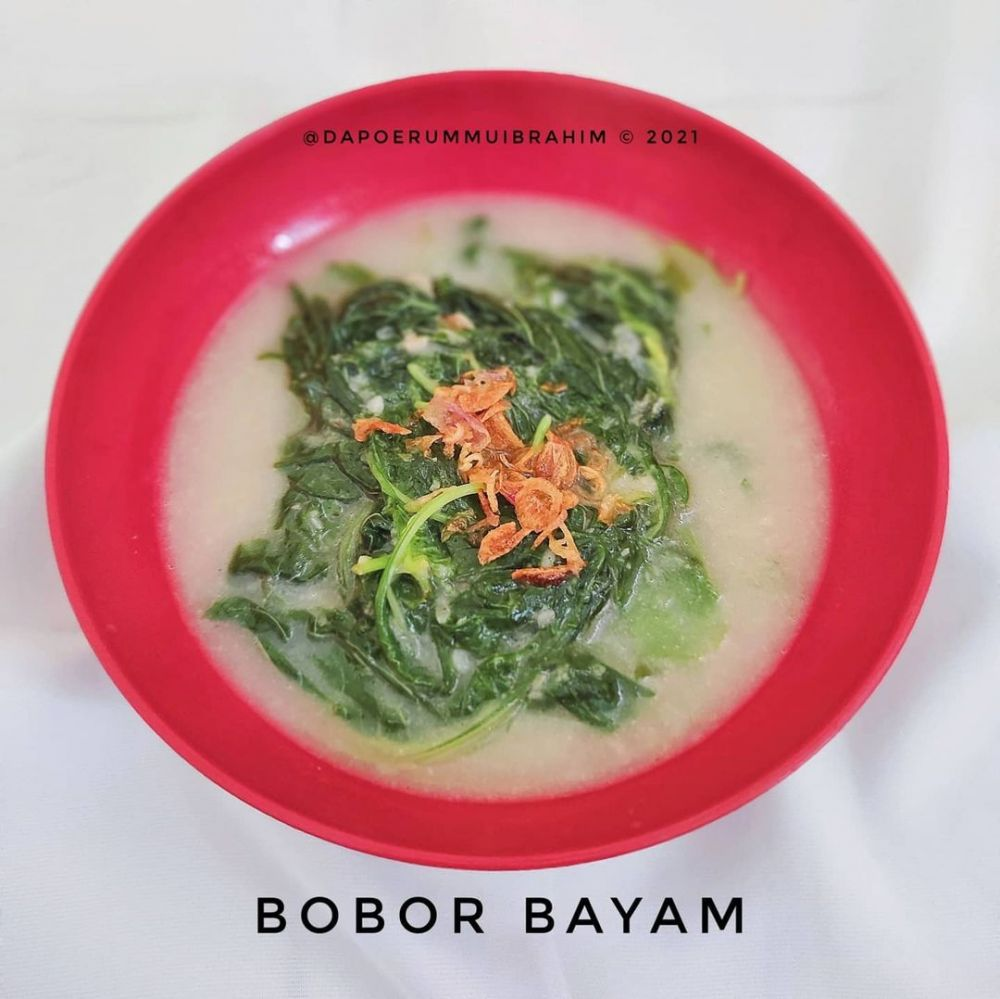Sayur Bayam: (164, 185, 783, 762)
